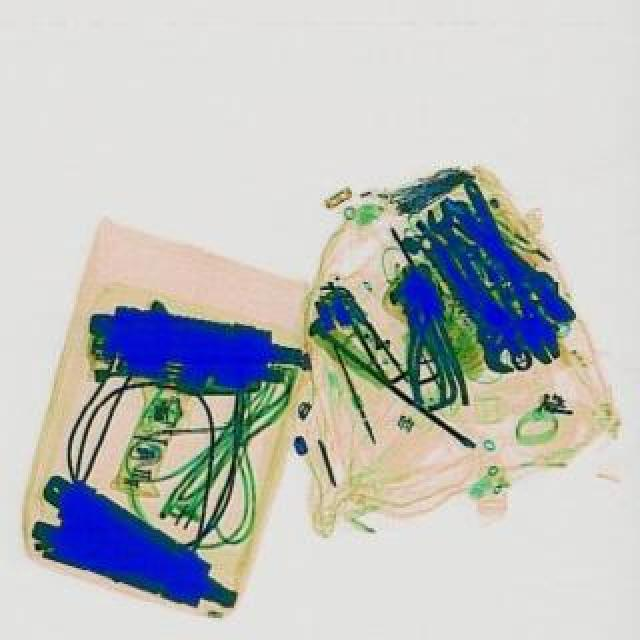scissors: (454, 170, 570, 364), (436, 194, 592, 328), (404, 222, 536, 378)
wrench: (394, 286, 454, 406)
